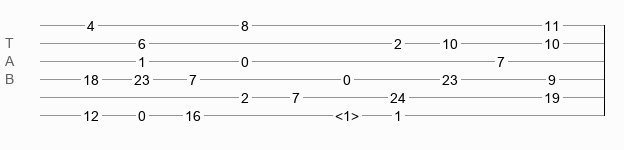0: (138, 108, 146, 118), (241, 54, 249, 64), (343, 72, 351, 82)
1: (138, 54, 146, 64), (394, 108, 402, 118)
10: (442, 36, 458, 46), (544, 36, 560, 46)
11: (544, 18, 560, 28)
12: (83, 108, 99, 118)
16: (185, 108, 201, 118)
18: (83, 72, 99, 82)
19: (544, 90, 560, 100)
2: (241, 90, 249, 100), (394, 36, 402, 46)
23: (134, 72, 150, 82), (442, 72, 458, 82)
24: (390, 90, 406, 100)
4: (87, 18, 95, 28)
6: (138, 36, 146, 46)
7: (189, 72, 197, 82), (292, 90, 300, 100), (497, 54, 505, 64)
8: (241, 18, 249, 28)
9: (548, 72, 556, 82)
harmonic: (335, 108, 359, 118)
